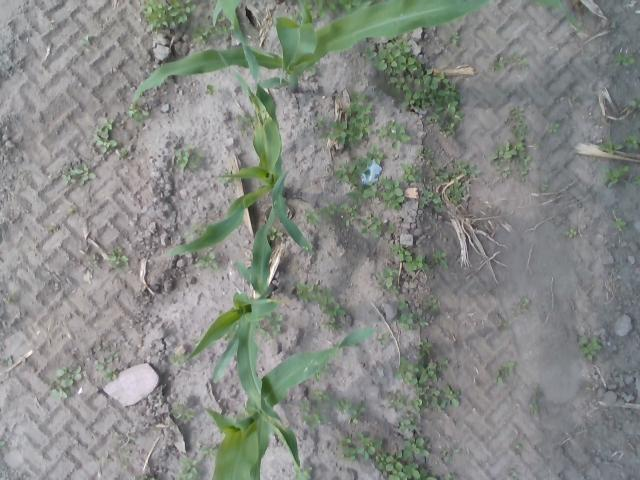Maize: (132, 0, 490, 100), (178, 207, 314, 466), (152, 42, 312, 260), (205, 327, 379, 480), (212, 1, 260, 80), (538, 0, 580, 31)
Weeds: (364, 38, 464, 138), (386, 338, 462, 433), (402, 146, 482, 214), (332, 146, 405, 208), (374, 437, 458, 480), (312, 90, 372, 145), (492, 105, 530, 182), (296, 282, 346, 330), (139, 0, 196, 32), (92, 115, 129, 158), (338, 432, 382, 463), (300, 202, 356, 226), (396, 299, 441, 328), (298, 390, 329, 428), (392, 242, 429, 272), (52, 365, 84, 398), (106, 434, 134, 471), (332, 397, 366, 426), (61, 161, 98, 187), (370, 265, 401, 295), (378, 120, 410, 149), (307, 0, 359, 17), (188, 24, 226, 46), (93, 354, 118, 384), (576, 335, 602, 363), (172, 146, 200, 170), (358, 216, 384, 239), (493, 54, 526, 72), (174, 458, 200, 480), (235, 110, 254, 138), (604, 166, 628, 188), (106, 246, 128, 270), (170, 404, 193, 426), (194, 250, 218, 271), (496, 360, 514, 387), (260, 314, 282, 336), (431, 248, 450, 270), (125, 104, 149, 120), (598, 140, 624, 154), (528, 383, 540, 413), (439, 446, 461, 462), (614, 50, 636, 66), (181, 224, 204, 238), (314, 366, 334, 382), (512, 298, 530, 315), (199, 442, 216, 460), (293, 466, 314, 480), (168, 351, 185, 368), (624, 134, 640, 150), (494, 313, 508, 330), (546, 122, 560, 134), (80, 34, 92, 48), (613, 218, 626, 230), (134, 473, 156, 480), (565, 229, 578, 240), (307, 66, 318, 78), (629, 98, 640, 109), (47, 221, 59, 231), (377, 334, 389, 344), (220, 177, 233, 186), (204, 84, 214, 95), (631, 176, 640, 186), (448, 32, 459, 40), (540, 183, 548, 193), (508, 468, 516, 477), (386, 224, 396, 231), (3, 295, 13, 301), (572, 92, 579, 100), (512, 444, 520, 450)
